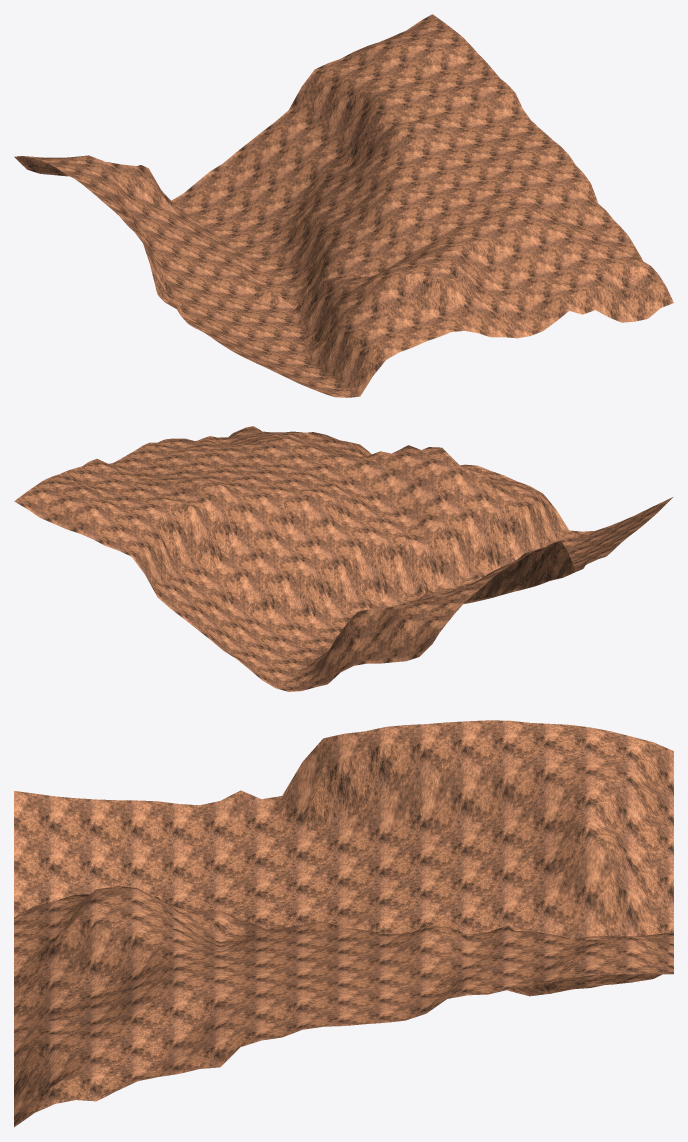
The model's file is terrain_01_18.dae.
The picture shows the model from 3 angles, top to bottom: view 1: azimuth 30°, elevation 25°; view 2: azimuth 150°, elevation 25°; view 3: azimuth 270°, elevation 25°; orthographic projection. The views are drawn at different scales.
Parts seen in each view (by area): view 1: terrain_01_18-node; view 2: terrain_01_18-node; view 3: terrain_01_18-node.
Part boxes in pixels (x1,y1,x2,y2): terrain_01_18-node: [14, 14, 673, 397]; terrain_01_18-node: [14, 426, 672, 691]; terrain_01_18-node: [14, 720, 673, 1127].
Bounding box in the file's own units: 128 × 128 × 37.83.
Materials: 1 (1 with a texture image).
